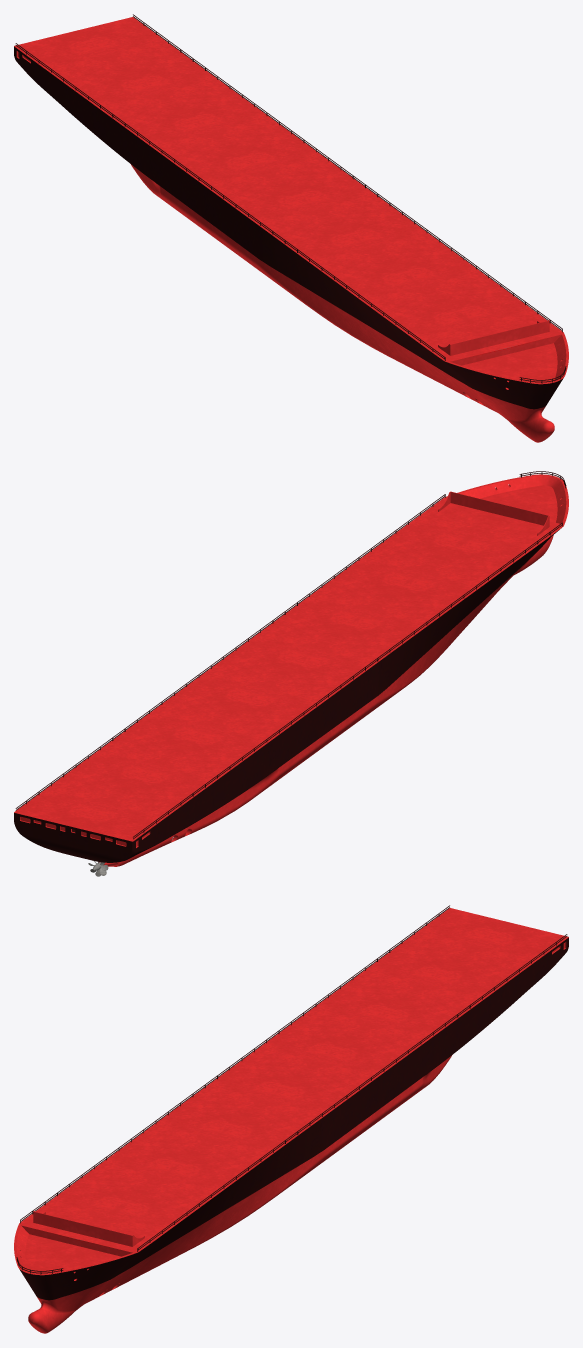
Rendered from hull_glb.glb.
The picture shows the model from 3 angles, top to bottom: view 1: azimuth 30°, elevation 25°; view 2: azimuth 150°, elevation 25°; view 3: azimuth 330°, elevation 25°; orthographic projection.
Parts seen in each view (by area): view 1: hull; view 2: hull; view 3: hull.
Part boxes in pixels (x1=…): hull: x1=14, y1=14, x2=568, y2=442; hull: x1=14, y1=471, x2=568, y2=876; hull: x1=14, y1=905, x2=568, y2=1333.
Size of the model in its own units: 5.6 by 3.69 by 39.
Materials: 1 (1 with a texture image).
